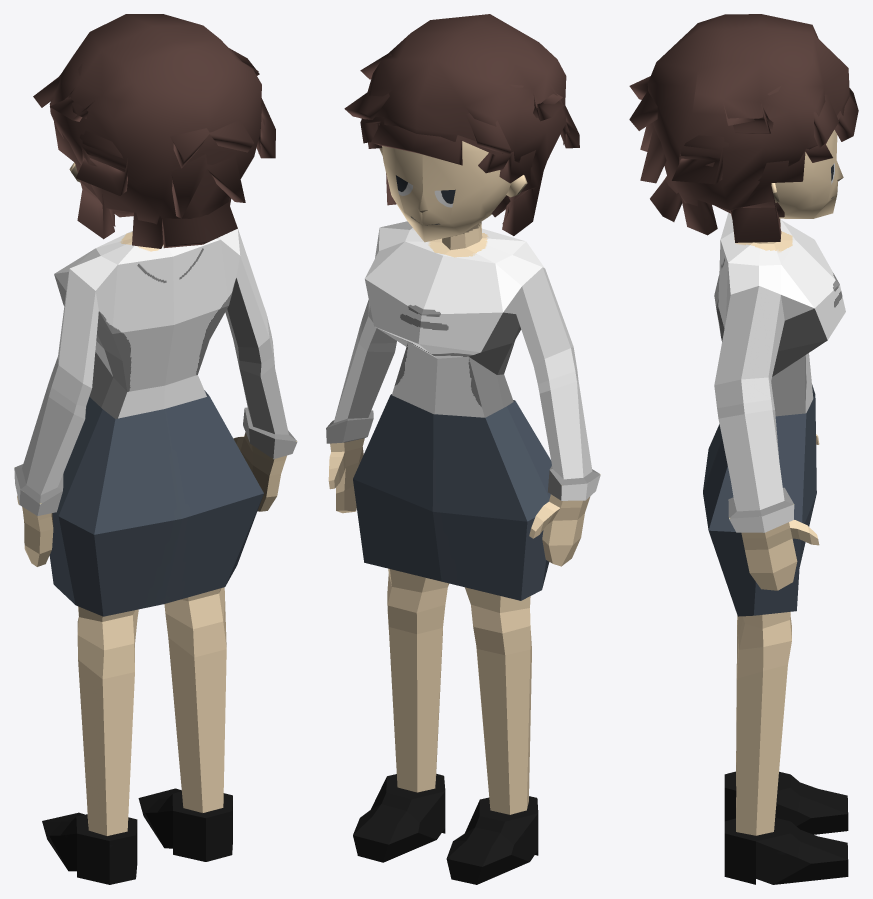
Rendered from F SHAGGY.glb.
3 views of the same model, side by side, from view 1: azimuth 30°, elevation 25°; view 2: azimuth 150°, elevation 25°; view 3: azimuth 270°, elevation 25° (orthographic). The views are drawn at different scales.
Visible parts, largest first — view 1: WOMEN OFFICE, SHAGGY; view 2: WOMEN OFFICE, SHAGGY, WOMEN HEAD; view 3: WOMEN OFFICE, SHAGGY, WOMEN HEAD.
Boxes of the visible parts, left/top/right/bottom form: WOMEN OFFICE: left=14, top=228, right=297, bottom=884; SHAGGY: left=33, top=14, right=275, bottom=248; WOMEN OFFICE: left=326, top=221, right=600, bottom=884; SHAGGY: left=344, top=14, right=579, bottom=235; WOMEN HEAD: left=382, top=141, right=510, bottom=242; WOMEN OFFICE: left=703, top=213, right=848, bottom=884; SHAGGY: left=629, top=14, right=858, bottom=242; WOMEN HEAD: left=775, top=130, right=843, bottom=218.
Bounding box in the file's own units: 3.07 × 9.25 × 2.34.
4 materials, 4 textured.
